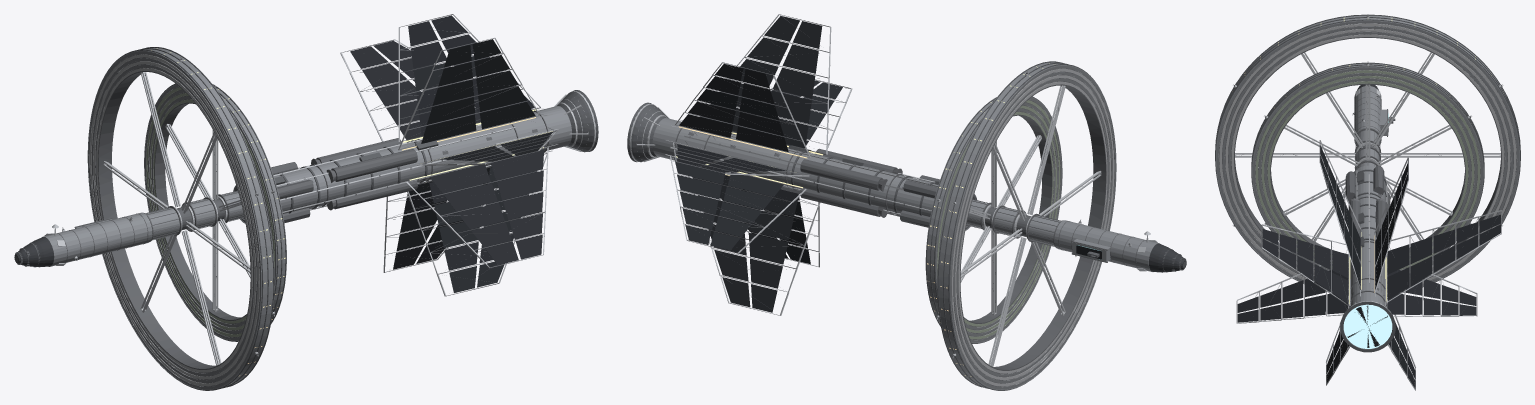
The model's file is xuanshu_hull_lod1.glb.
The picture shows the model from 3 angles, left to right: view 1: azimuth 30°, elevation 25°; view 2: azimuth 150°, elevation 25°; view 3: azimuth 270°, elevation 25°; orthographic projection. The views are drawn at different scales.
Parts seen in each view (by area): view 1: INDUSTRY_I3, HULL_SHELL, INDUSTRY_I2, RING_T5, RING_T4, RING_T3, RING_T2, RING_T6, NOZZLE, RING_T1, SPINE_S1, INDUSTRY_I1 (+13 smaller); view 2: INDUSTRY_I3, HULL_SHELL, INDUSTRY_I2, RING_T5, RING_T4, RING_T2, RING_T3, RING_T6, RING_T1, NOZZLE, SPINE_S1, RING_E5 (+13 smaller); view 3: INDUSTRY_I3, HULL_SHELL, RING_T5, RING_T4, NOZZLE, RING_T6, RING_T3, RING_T2, RING_T1, RING_E5, RING_E3, RING_E4 (+16 smaller).
Boxes of the visible parts, x1,y1,x2,y2 form: INDUSTRY_I3: (273,14,558,296); HULL_SHELL: (14,47,571,390); INDUSTRY_I2: (274,138,417,210); RING_T5: (90,54,259,386); RING_T4: (91,57,258,383); RING_T3: (93,60,256,379); RING_T2: (95,64,254,376); RING_T6: (88,48,271,389); NOZZLE: (554,90,598,152); RING_T1: (97,67,252,373); SPINE_S1: (143,204,194,241); INDUSTRY_I1: (234,162,313,223); INDUSTRY_I3: (665,14,937,315); HULL_SHELL: (652,61,1186,390); INDUSTRY_I2: (800,148,939,217); RING_T5: (951,68,1114,386); RING_T4: (953,71,1112,383); RING_T2: (956,78,1109,377); RING_T3: (955,74,1110,380); RING_T6: (940,63,1115,389); RING_T1: (958,81,1107,373); NOZZLE: (627,102,669,162); SPINE_S1: (1014,213,1062,247); RING_E5: (937,99,1060,339); INDUSTRY_I3: (1236,140,1501,390); HULL_SHELL: (1215,14,1520,307); RING_T5: (1219,23,1516,291); RING_T4: (1222,26,1513,289); NOZZLE: (1340,301,1395,352); RING_T6: (1216,14,1519,293); RING_T3: (1225,28,1510,286); RING_T2: (1228,31,1507,283); RING_T1: (1231,34,1504,280); RING_E5: (1255,70,1480,272); RING_E3: (1261,75,1474,266); RING_E4: (1258,73,1477,269).
Bounding box in the file's own units: 760 × 415 × 406.
